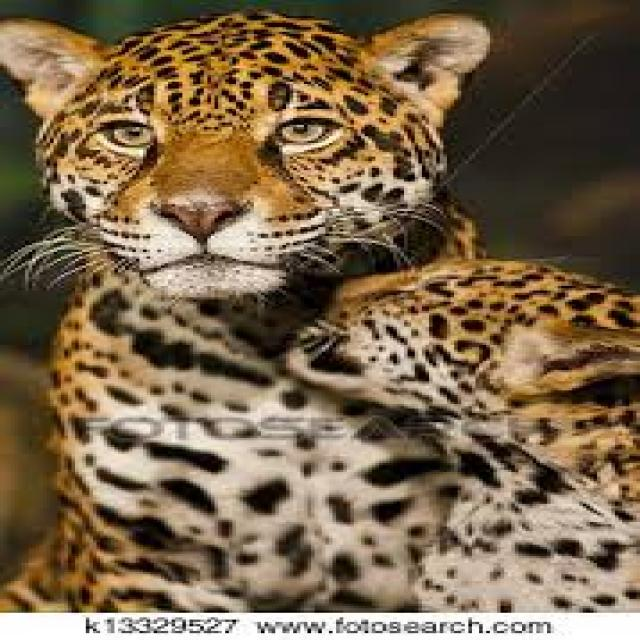Jaguar: (0, 7, 433, 617), (343, 268, 640, 613)
